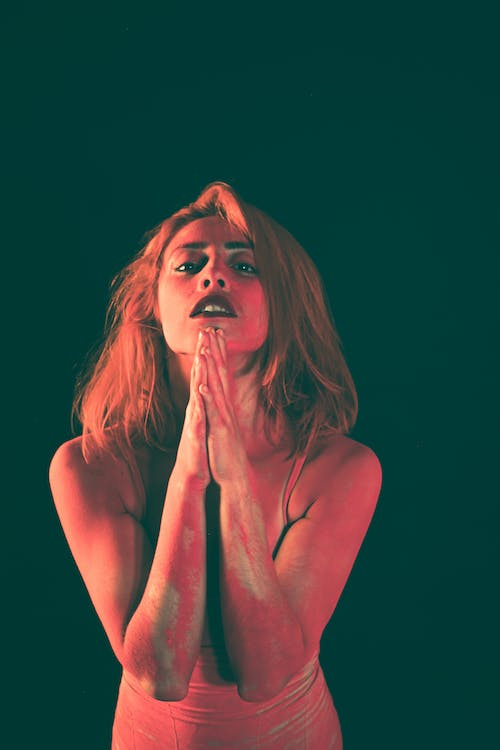blood: (107, 209, 315, 710)
